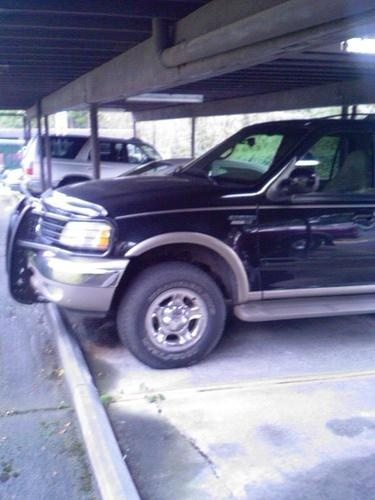car: (4, 111, 375, 372), (20, 135, 167, 192), (120, 157, 280, 181)
